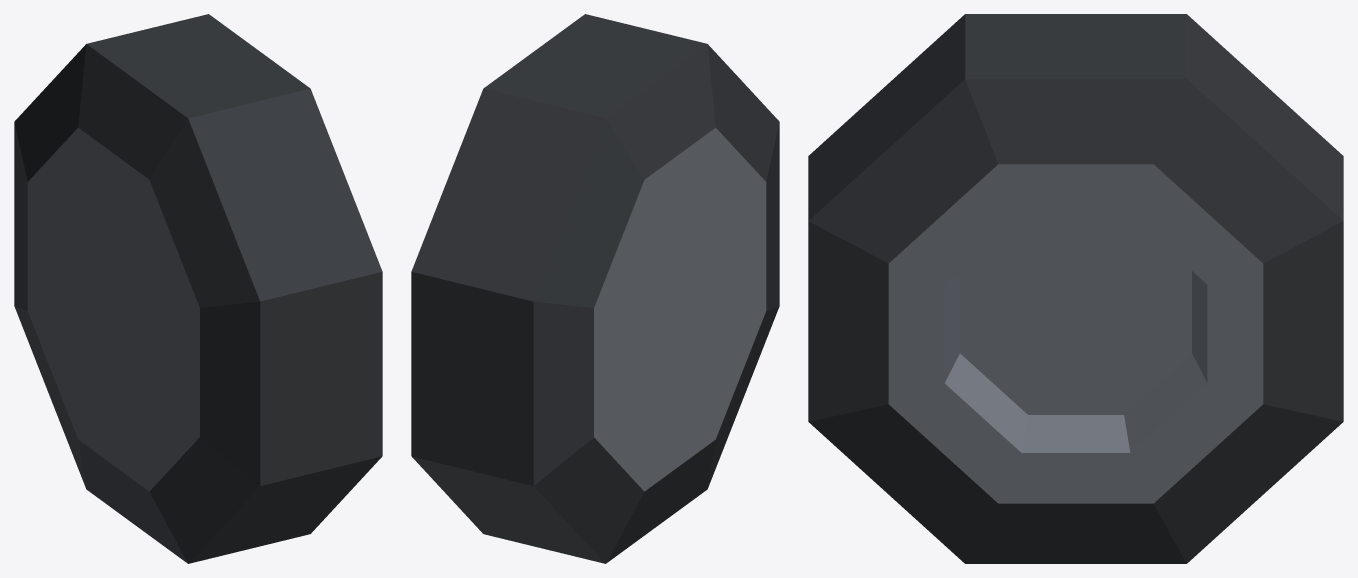
File: SM_Prop_Cart_Stall_Wheel_l.fbx
The picture shows the model from 3 angles, left to right: view 1: azimuth 30°, elevation 25°; view 2: azimuth 150°, elevation 25°; view 3: azimuth 270°, elevation 25°; orthographic projection. The views are drawn at different scales.
Visible parts, largest first — view 1: SM_Prop_Cart_Stall_Wheel_l; view 2: SM_Prop_Cart_Stall_Wheel_l; view 3: SM_Prop_Cart_Stall_Wheel_l.
Boxes of the visible parts, box(x1,y1,x2,y2) form: SM_Prop_Cart_Stall_Wheel_l: box(14, 14, 382, 563); SM_Prop_Cart_Stall_Wheel_l: box(411, 14, 779, 563); SM_Prop_Cart_Stall_Wheel_l: box(808, 14, 1343, 563).
Size of the model in its own units: 14.26 by 35.85 by 35.85.
